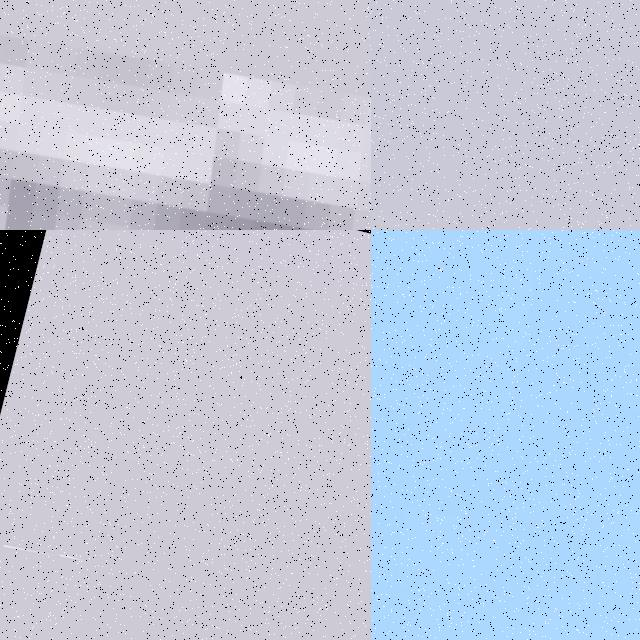drone: (371, 230, 640, 640), (0, 0, 371, 230), (0, 532, 371, 640)
